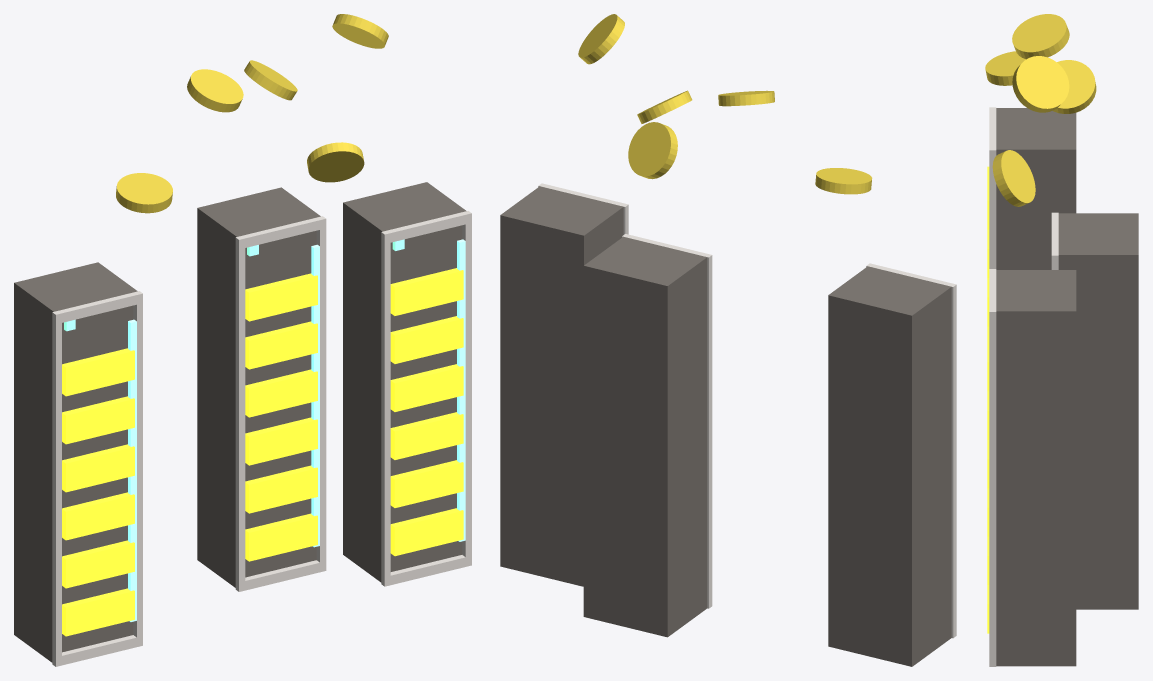
Rendered from hero.glb.
3 renders of one model, left to right at view 1: azimuth 30°, elevation 25°; view 2: azimuth 150°, elevation 25°; view 3: azimuth 270°, elevation 25°, orthographic.
Parts seen in each view (by area): view 1: RR_chassis, RC_chassis, RL_chassis, RC_frame_l, RR_frame_l, RL_frame_l, RC_frame_r, RR_frame_r, RR_bay0, RR_bay1, RR_bay2, RR_bay3 (+29 smaller); view 2: RC_chassis, RL_chassis, RR_chassis, Coin5, RL_frame_l, RC_frame_l, Coin4, Coin1, Coin2, Coin3; view 3: RR_chassis, RC_chassis, RL_chassis, RR_frame_r, Coin4, Coin2, Coin5, Coin3, Coin1, RL_frame_r, RR_frame_t, RC_frame_t (+1 smaller).
Part boxes in pixels (x1,y1,x2,y2): RR_chassis: (343,182,466,582); RC_chassis: (197,187,320,587); RL_chassis: (14,262,137,662); RC_frame_l: (235,238,245,591); RR_frame_l: (381,232,390,586); RL_frame_l: (52,311,61,666); RC_frame_r: (316,216,326,570); RR_frame_r: (462,211,471,565); RR_bay0: (390,508,463,556); RR_bay1: (390,460,463,507); RR_bay2: (390,412,463,459); RR_bay3: (390,364,463,411); RC_chassis: (583,236,707,637); RL_chassis: (828,266,951,666); RR_chassis: (500,186,623,586); Coin5: (628,122,677,179); RL_frame_l: (947,283,956,637); RC_frame_l: (703,255,712,608); Coin4: (578,14,624,64); Coin1: (815,168,872,194); Coin2: (718,90,774,106); Coin3: (637,90,692,123); RR_chassis: (996,270,1076,666); RC_chassis: (1058,213,1138,609); RL_chassis: (996,108,1076,269); RR_frame_r: (989,309,996,665); Coin4: (1012,56,1069,112); Coin2: (1012,14,1069,59); Coin5: (992,150,1035,206); Coin3: (1053,60,1096,113); Coin1: (985,51,1025,85); RL_frame_r: (989,147,996,268); RR_frame_t: (989,269,996,321); RC_frame_t: (1051,212,1058,265).
Size of what is drawn, in the model's own units: 2.72 by 3.49 by 0.8628.
